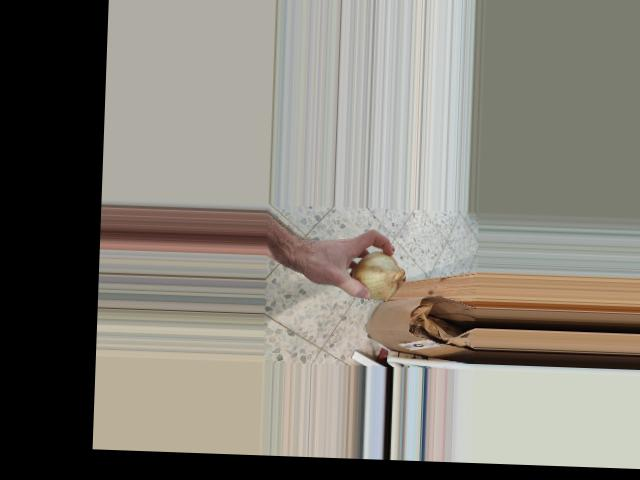onion: (342, 250, 405, 301)
